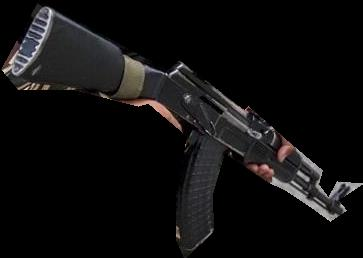gun: (1, 0, 363, 258)
